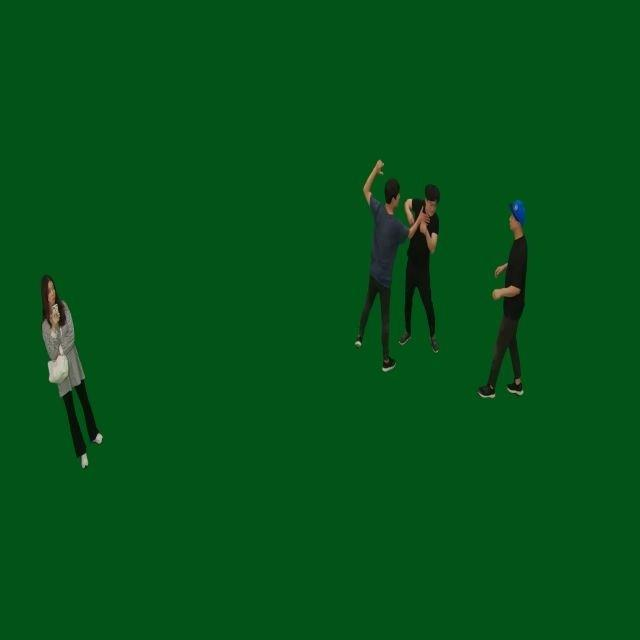fight: (348, 159, 438, 368)
non-fight: (37, 274, 103, 470), (477, 199, 525, 399)
